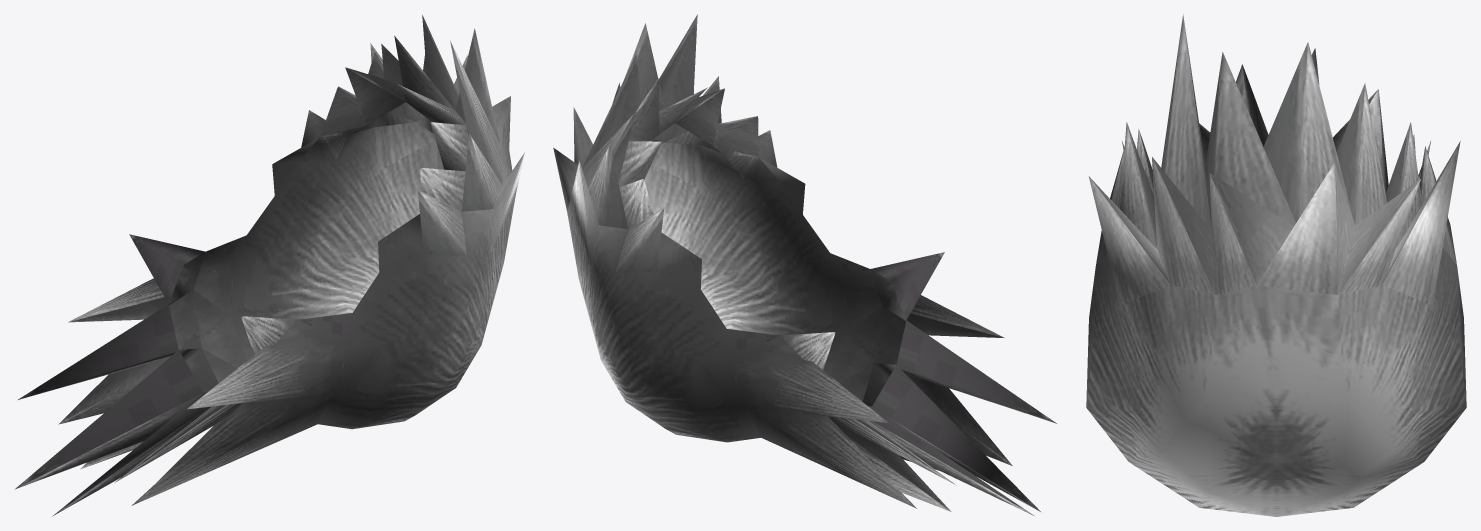
Rendered from SK_Hair_1_4.fbx.
3 renders of one model, left to right at view 1: azimuth 30°, elevation 25°; view 2: azimuth 150°, elevation 25°; view 3: azimuth 270°, elevation 25°, orthographic. The views are drawn at different scales.
Visible parts, largest first — view 1: warrior_hair; view 2: warrior_hair; view 3: warrior_hair.
Boxes of the visible parts, bbox=[...] form: warrior_hair: bbox=[14, 15, 524, 516]; warrior_hair: bbox=[553, 14, 1056, 515]; warrior_hair: bbox=[1086, 14, 1466, 516].
Size of the model in its own units: 33.09 by 27.44 by 17.
Materials: 1 (1 with a texture image).
